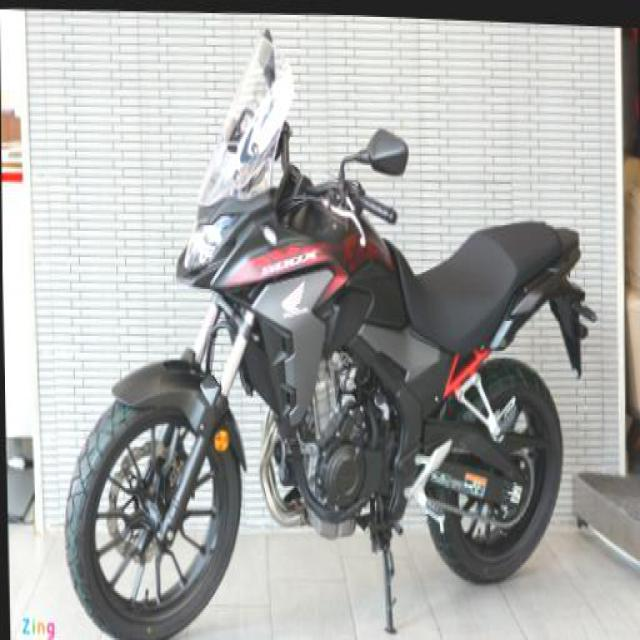CB500X: (49, 10, 595, 638)
